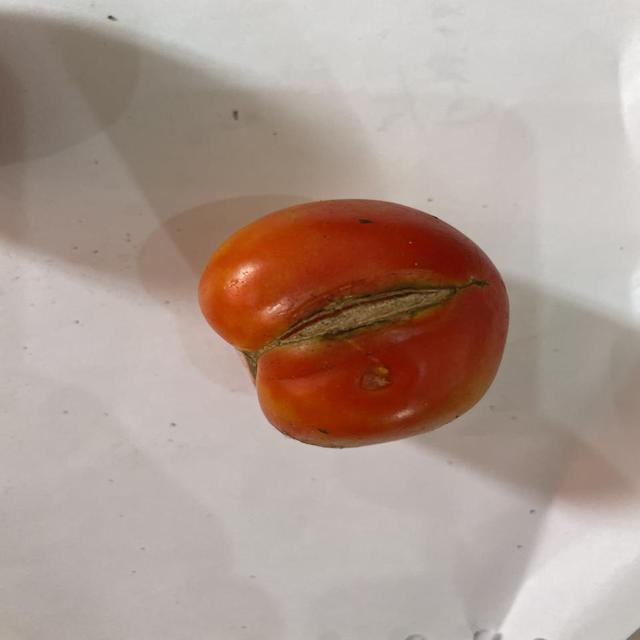Cracking Fruit: (73, 112, 278, 341)
